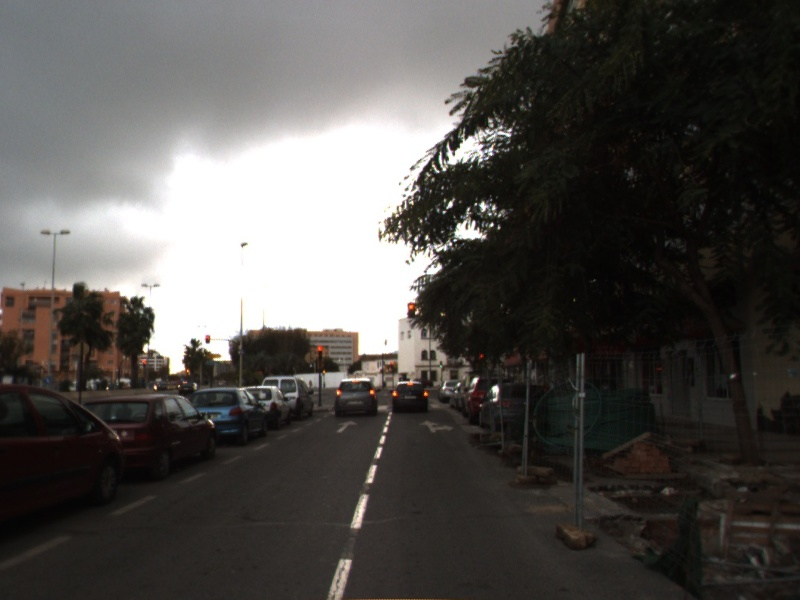STRAIGHT: (335, 418, 358, 434)
STRAIGHT_RIGHT: (417, 418, 456, 434)
